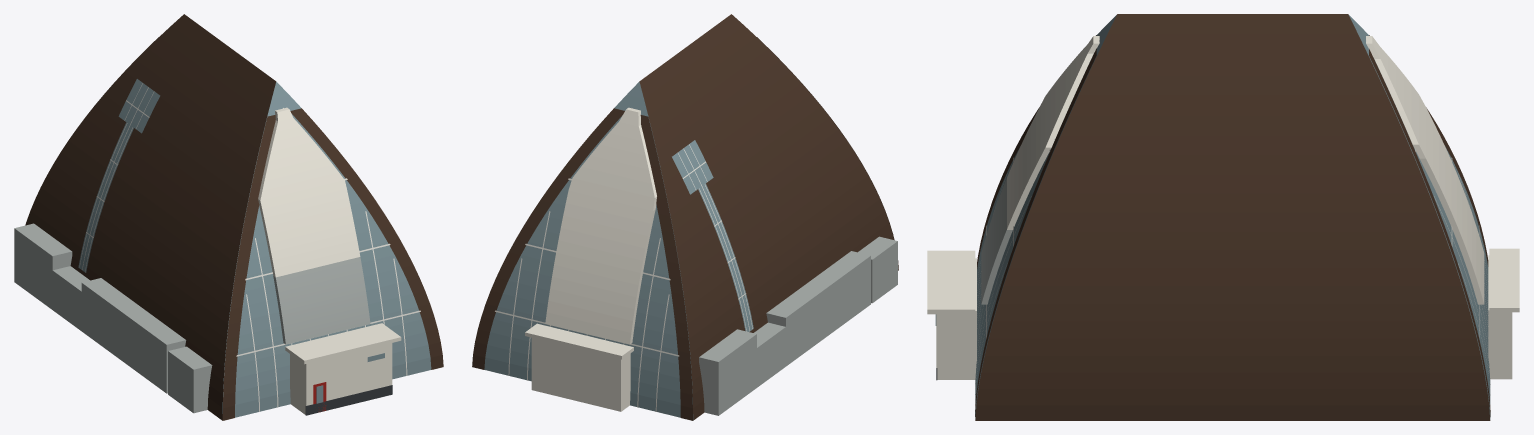
File: klimhal.glb
The picture shows the model from 3 angles, left to right: view 1: azimuth 30°, elevation 25°; view 2: azimuth 150°, elevation 25°; view 3: azimuth 270°, elevation 25°; orthographic projection. The views are drawn at different scales.
Parts seen in each view (by area): view 1: klimhal; view 2: klimhal; view 3: klimhal.
Part boxes in pixels (x1=…): klimhal: x1=14, y1=14, x2=443, y2=420; klimhal: x1=472, y1=14, x2=898, y2=420; klimhal: x1=927, y1=14, x2=1519, y2=420.
Size of the model in its own units: 19.15 by 21.1 by 33.35.
